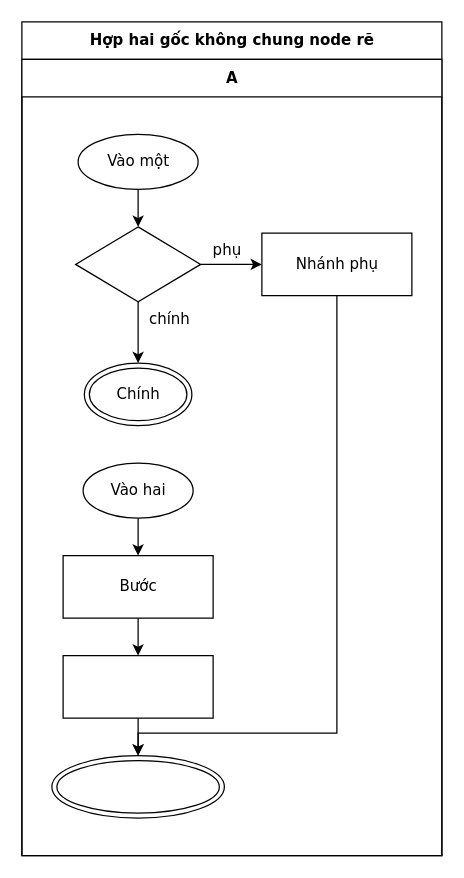
Some shapes in this 464 by 878 pixel diagram are drawn without their labels. Here are the shapes that lost their labels. From the top down, the centre of each, then its label:
pixel 137 264: Rẽ?
pixel 137 686: Bước sâu
pixel 137 786: Hợp hai gốc
